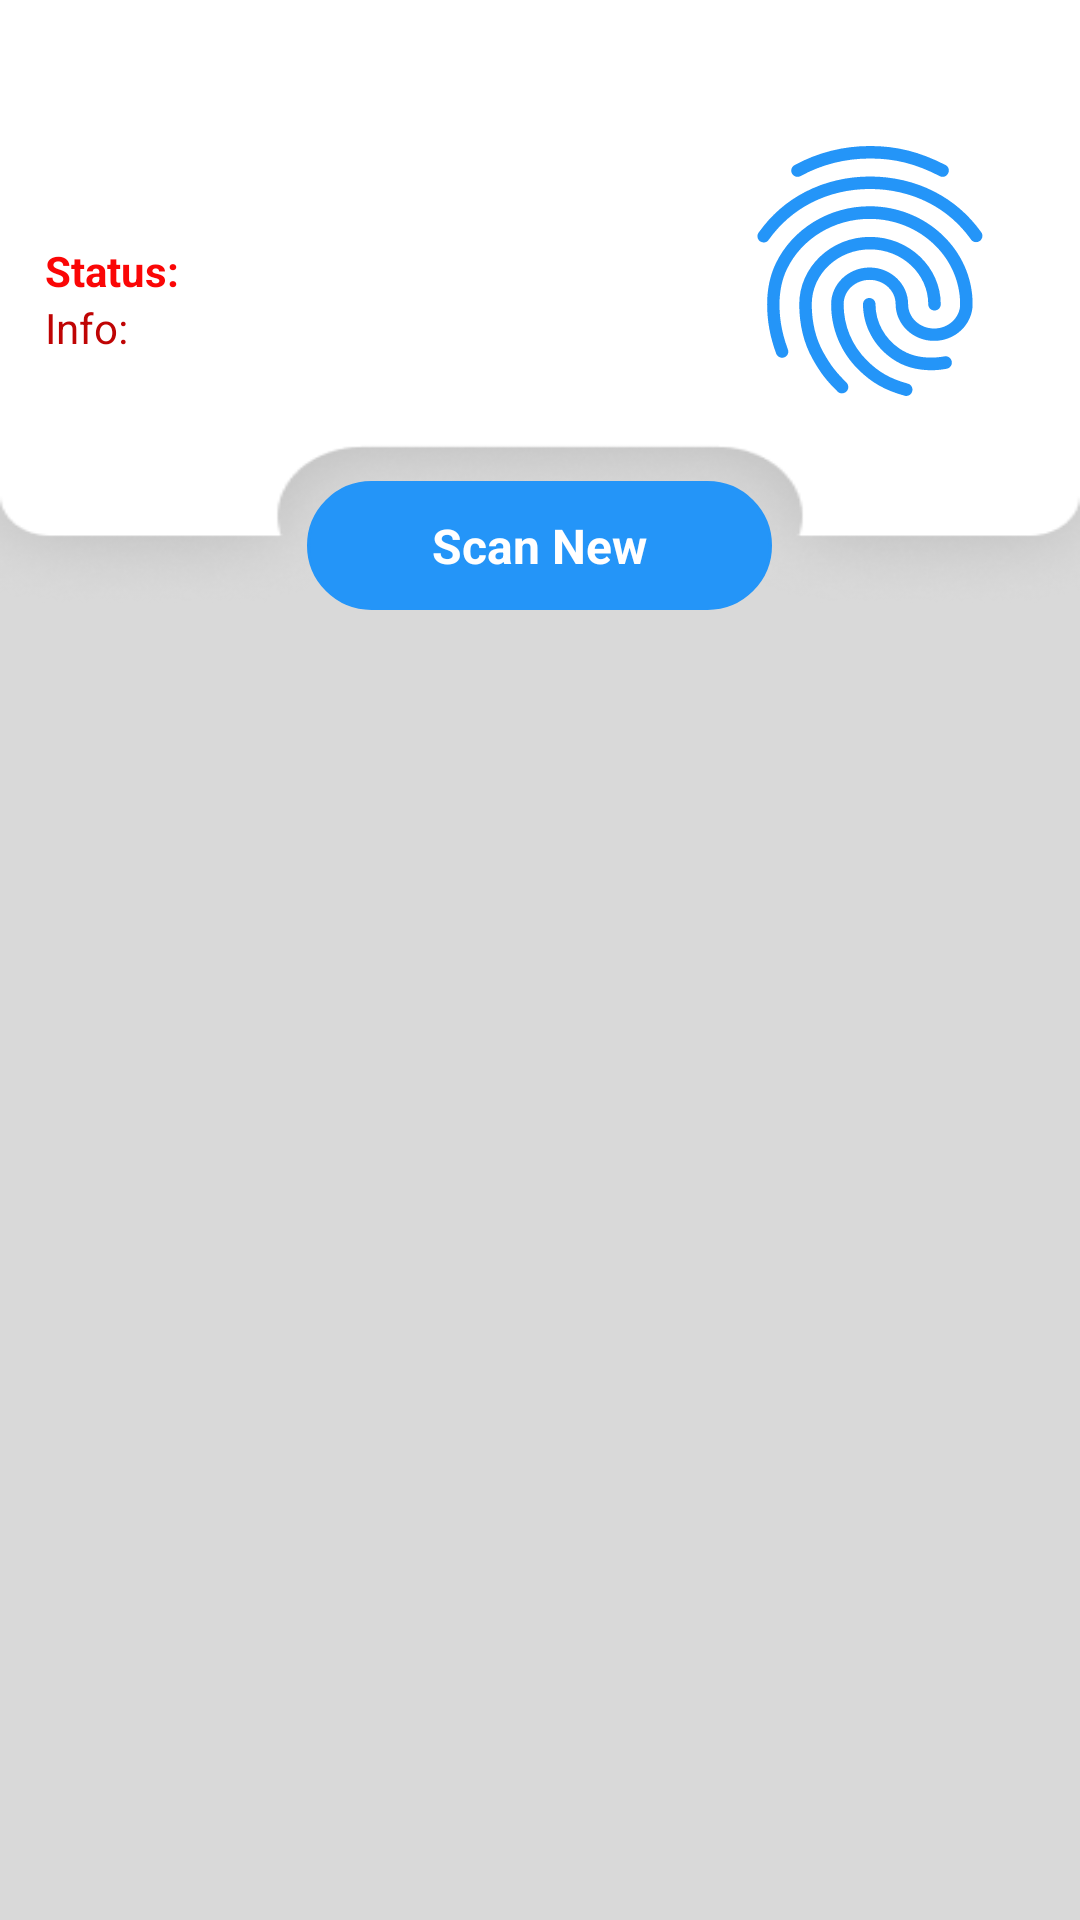

Where icons sit on this 1080*1920 app screen, as Rect(x1, y1, x2, y2):
fingerprint: Rect(757, 146, 983, 396)
